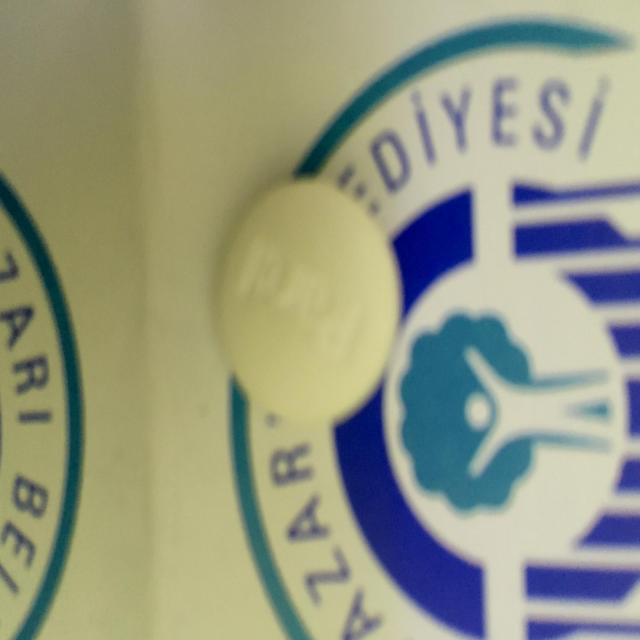pill: (215, 180, 402, 428)
